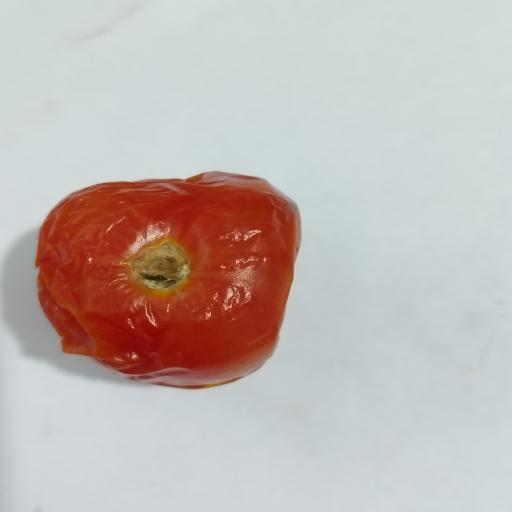spoiled: (37, 172, 300, 387)
